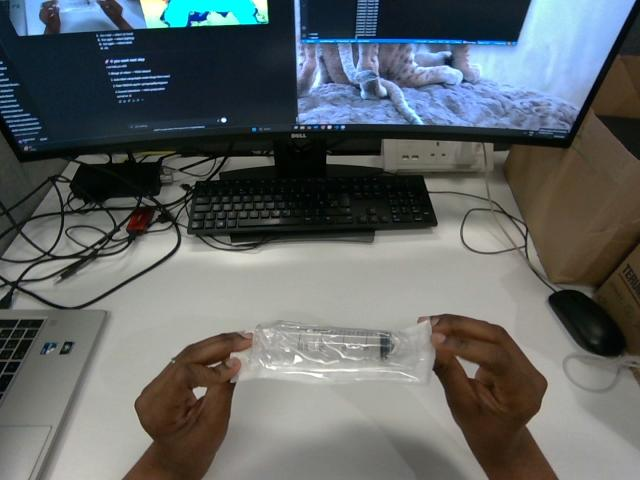syringe: (231, 321, 434, 383)
